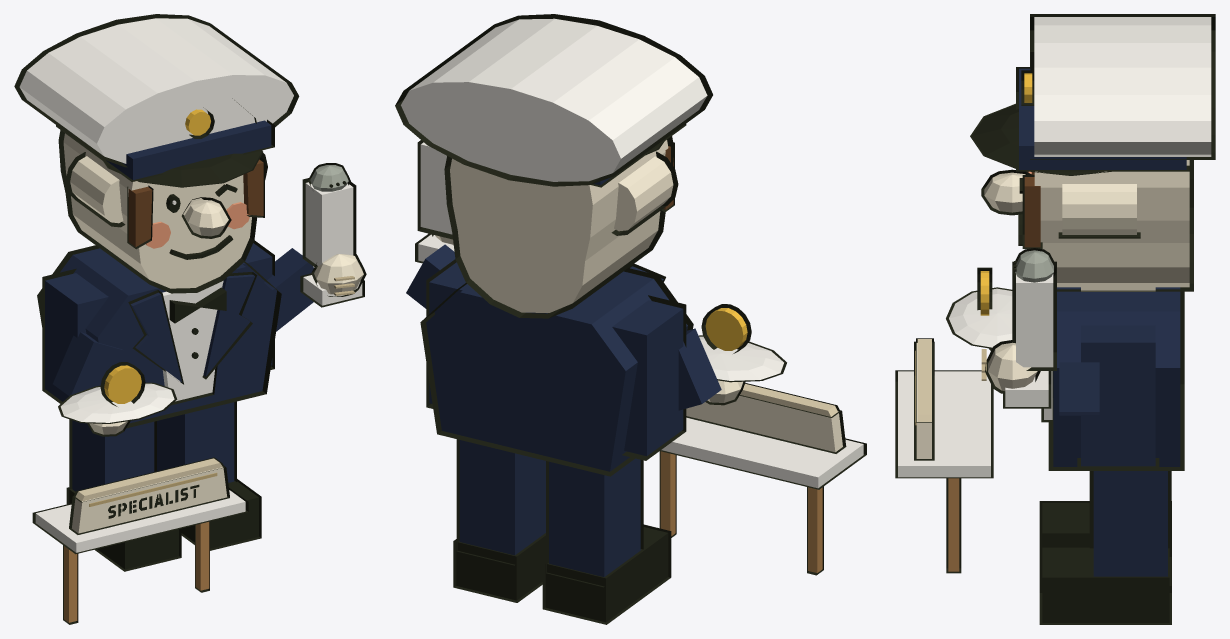
3 renders of one model, left to right at view 1: azimuth 30°, elevation 25°; view 2: azimuth 150°, elevation 25°; view 3: azimuth 270°, elevation 25°, orthographic. The views are drawn at different scales.
Visible parts, largest first — view 1: Link Marine; view 2: Link Marine; view 3: Link Marine.
Boxes of the visible parts, x1,y1,x2,y2 form: Link Marine: [14, 14, 366, 624]; Link Marine: [395, 14, 866, 624]; Link Marine: [895, 14, 1215, 624].
Bounding box in the file's own units: 0.722 × 0.9729 × 0.5155.
